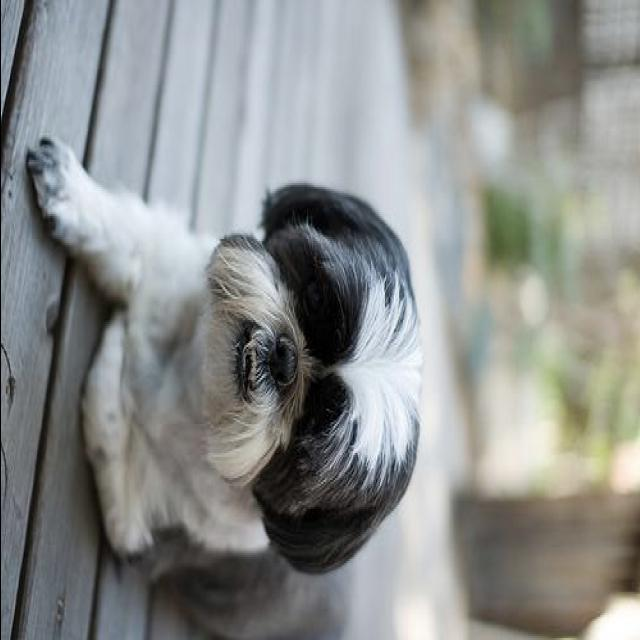shih_tzu: (22, 137, 420, 640)
